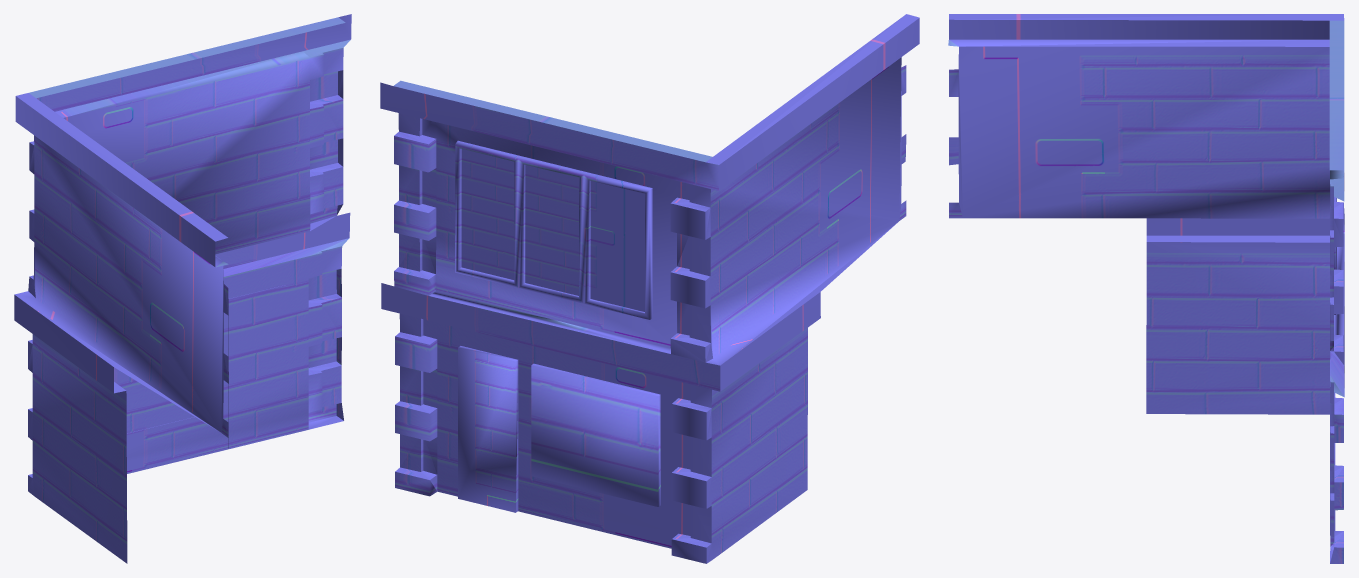
Rendered from righthouselowerfull.fbx.
3 renders of one model, left to right at view 1: azimuth 30°, elevation 25°; view 2: azimuth 150°, elevation 25°; view 3: azimuth 270°, elevation 25°, orthographic.
Visible parts, largest first — view 1: LowerHouse; view 2: LowerHouse; view 3: LowerHouse.
Part boxes in pixels (x1,y1,x2,y2): LowerHouse: [14, 14, 351, 563]; LowerHouse: [380, 14, 919, 563]; LowerHouse: [948, 14, 1344, 563].
Size of the model in its own units: 132 by 149 by 135.
